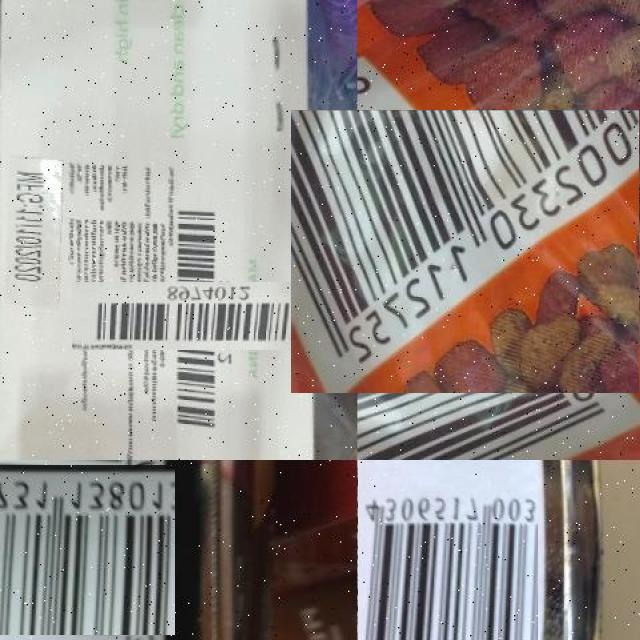Barcode: (323, 77, 640, 426), (357, 459, 538, 640), (0, 462, 173, 637), (119, 234, 284, 397)
